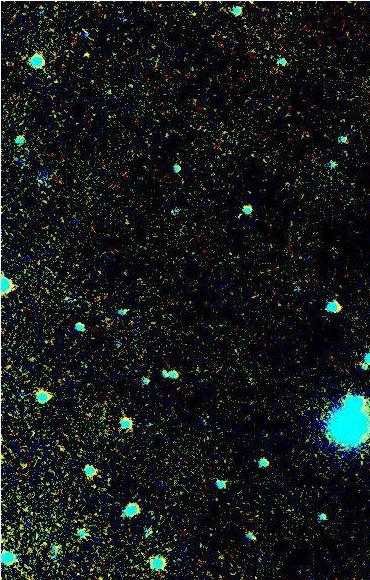star: (67, 39, 97, 69)
